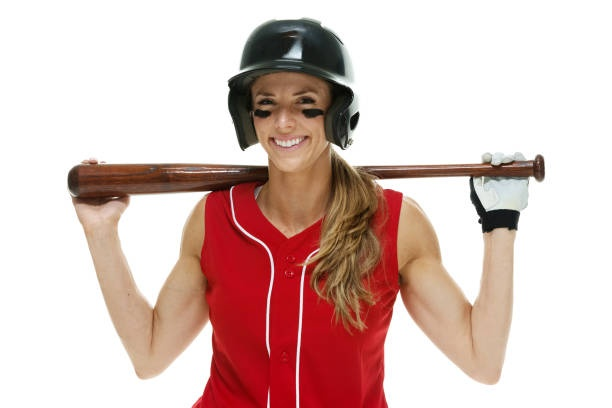bita: (67, 155, 560, 198)
